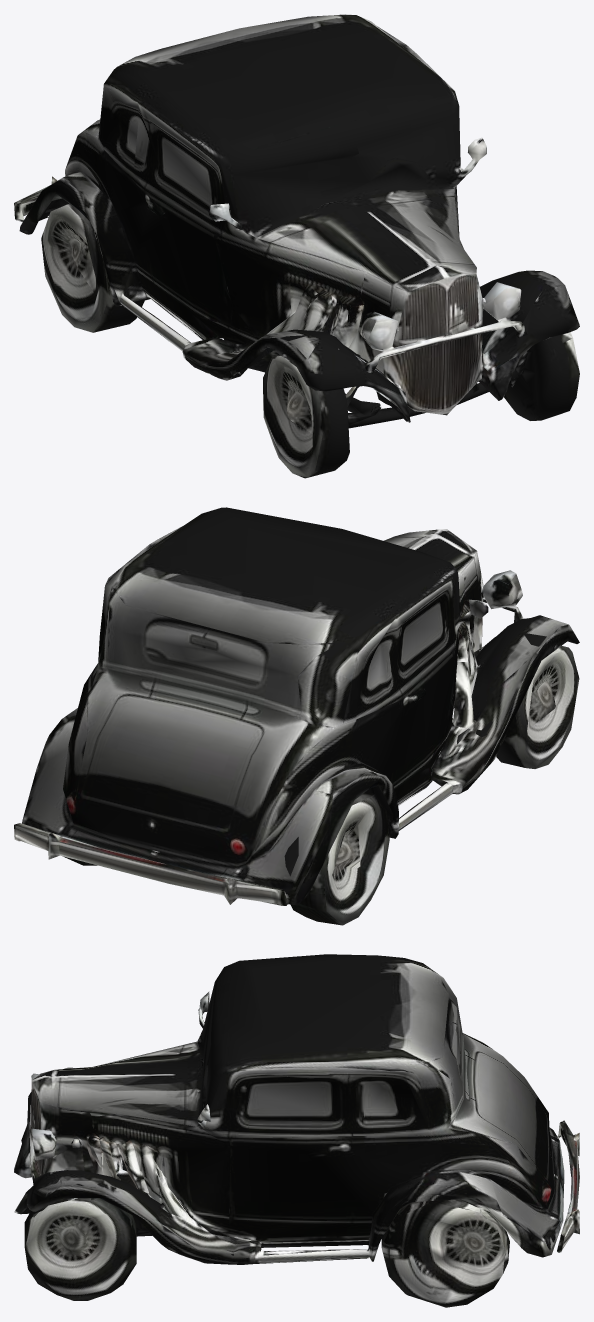
Rendered from deuce_32.glb.
3 views of the same model, one above another, from view 1: azimuth 30°, elevation 25°; view 2: azimuth 150°, elevation 25°; view 3: azimuth 270°, elevation 25° (orthographic). The views are drawn at different scales.
Parts seen in each view (by area): view 1: textured; view 2: textured; view 3: textured.
Part boxes in pixels (x1,y1,x2,y2): textured: (14, 14, 579, 478); textured: (14, 507, 579, 925); textured: (14, 954, 579, 1307).
Bounding box in the file's own units: 1.05 × 0.9247 × 1.93.
1 material, 1 textured.
